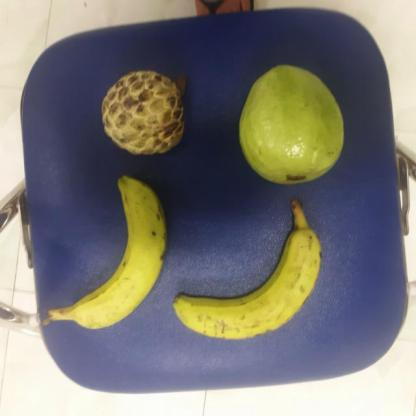annona: (99, 68, 185, 157)
banana: (168, 224, 324, 343), (68, 172, 168, 340)
guava: (233, 62, 347, 188)
